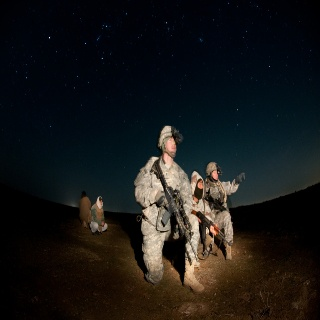rifle: (153, 161, 201, 264), (193, 208, 232, 248)
